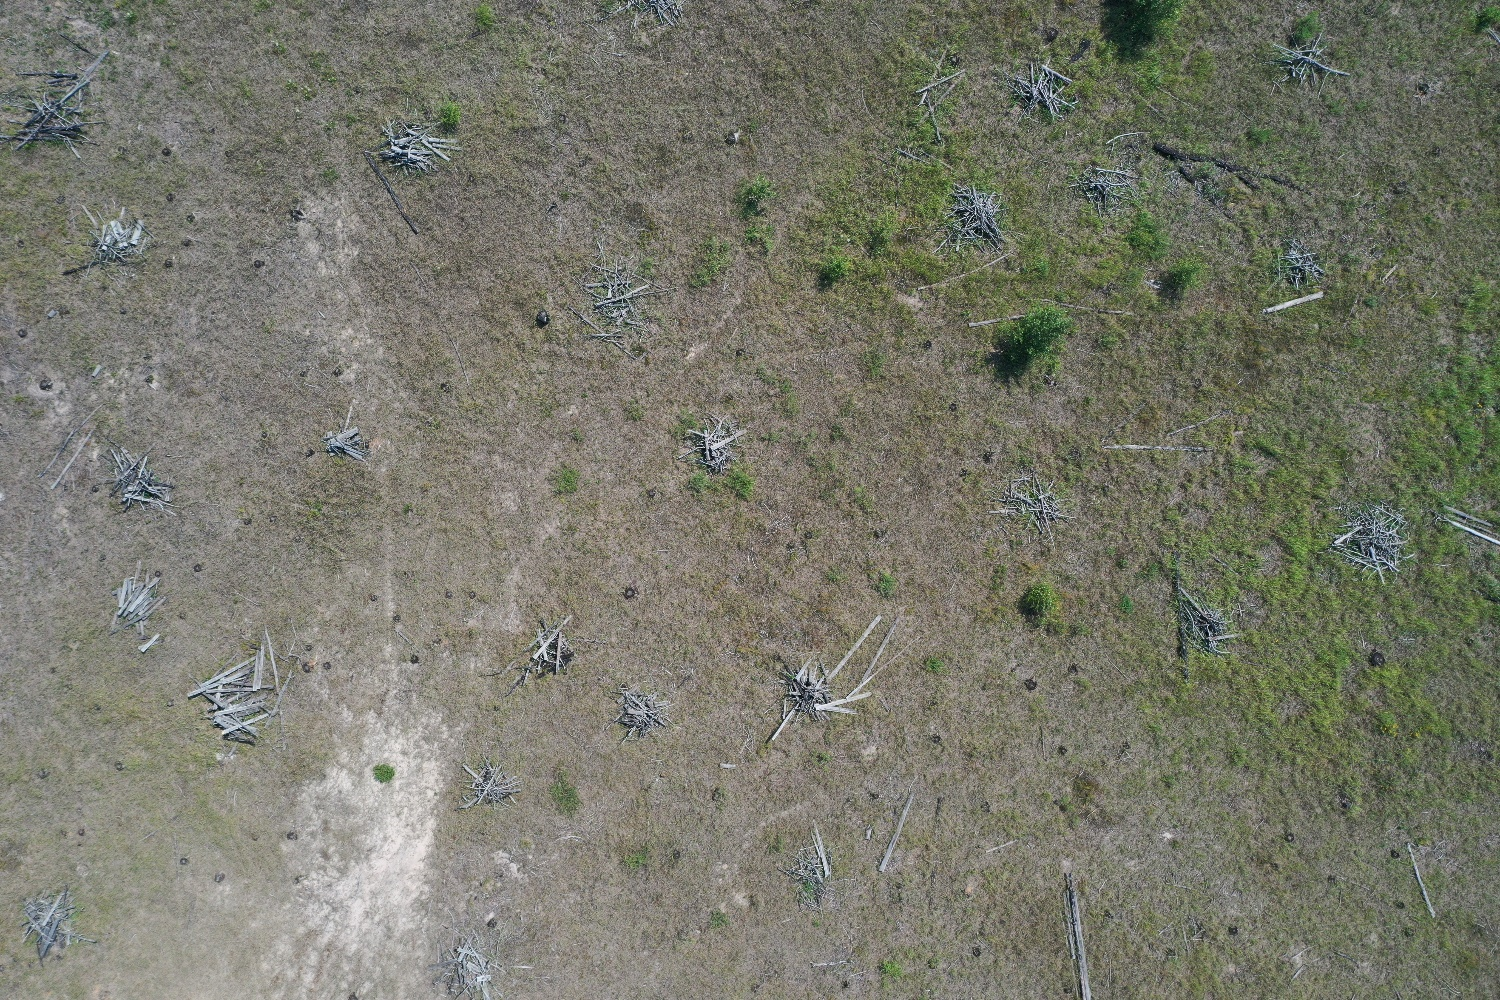branches: (1, 80, 105, 158), (186, 656, 278, 743), (1330, 501, 1416, 586), (21, 885, 98, 960), (936, 183, 1015, 253), (427, 932, 502, 1000), (107, 441, 176, 513), (989, 468, 1061, 533), (378, 123, 462, 176), (1004, 62, 1078, 123), (606, 685, 674, 748), (109, 561, 165, 634), (1180, 587, 1241, 653), (88, 214, 156, 273), (453, 754, 522, 811), (776, 661, 835, 721), (686, 417, 748, 475), (522, 616, 574, 685), (1073, 164, 1142, 215), (1273, 44, 1349, 85), (778, 854, 834, 908), (1277, 240, 1326, 288), (323, 426, 368, 461)
